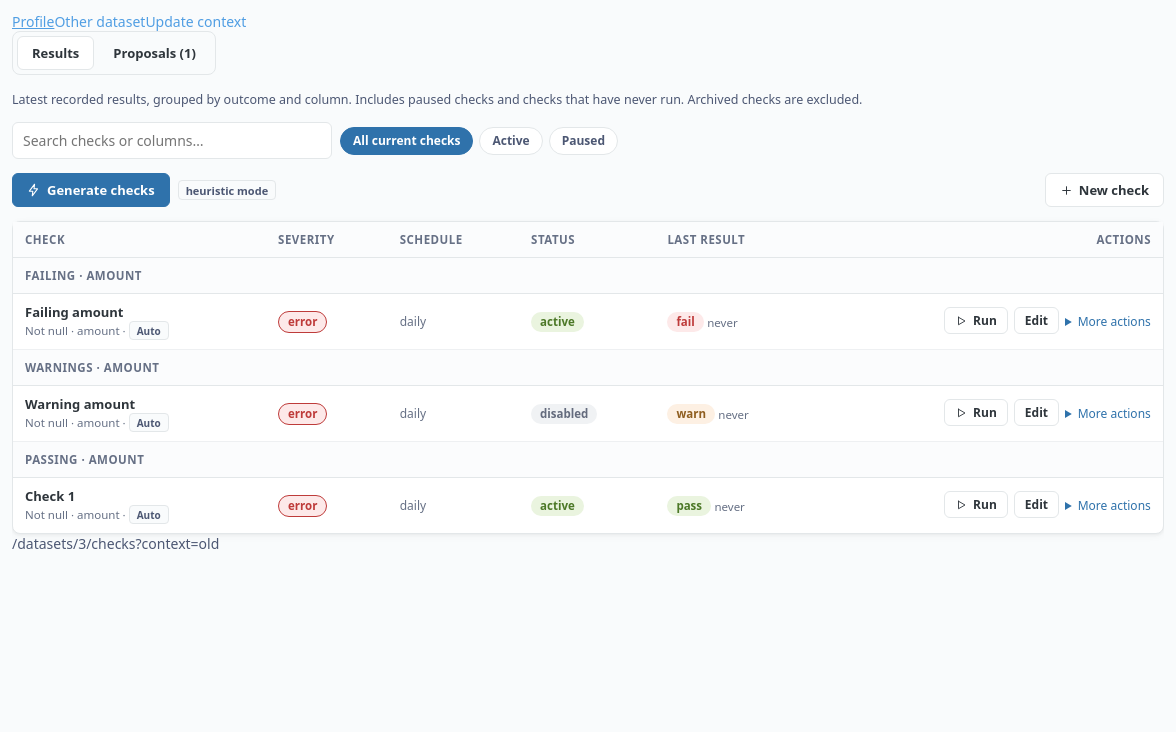
Test: Check results and proposals › preserves params updated while generation is pending on the same dataset
Click the button "Generate checks". click: (91, 190)
box: [12,173,170,207]
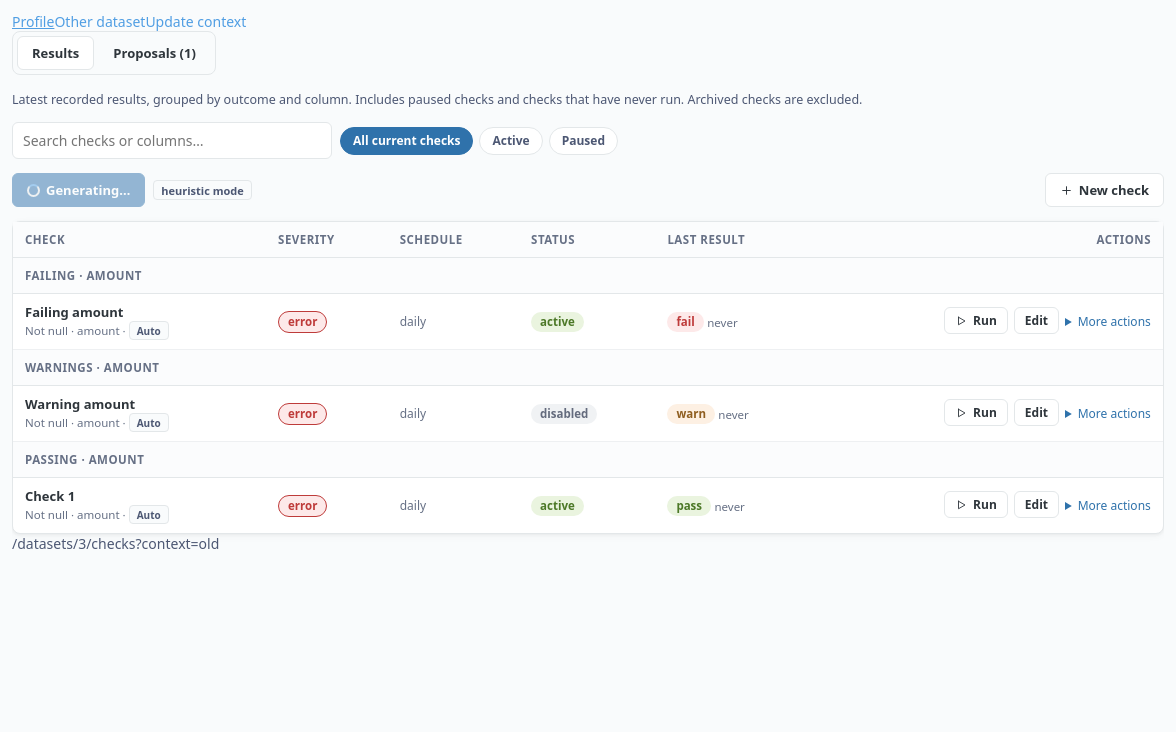
Click the link "Update context". click: (196, 22)
box: [145,12,246,31]
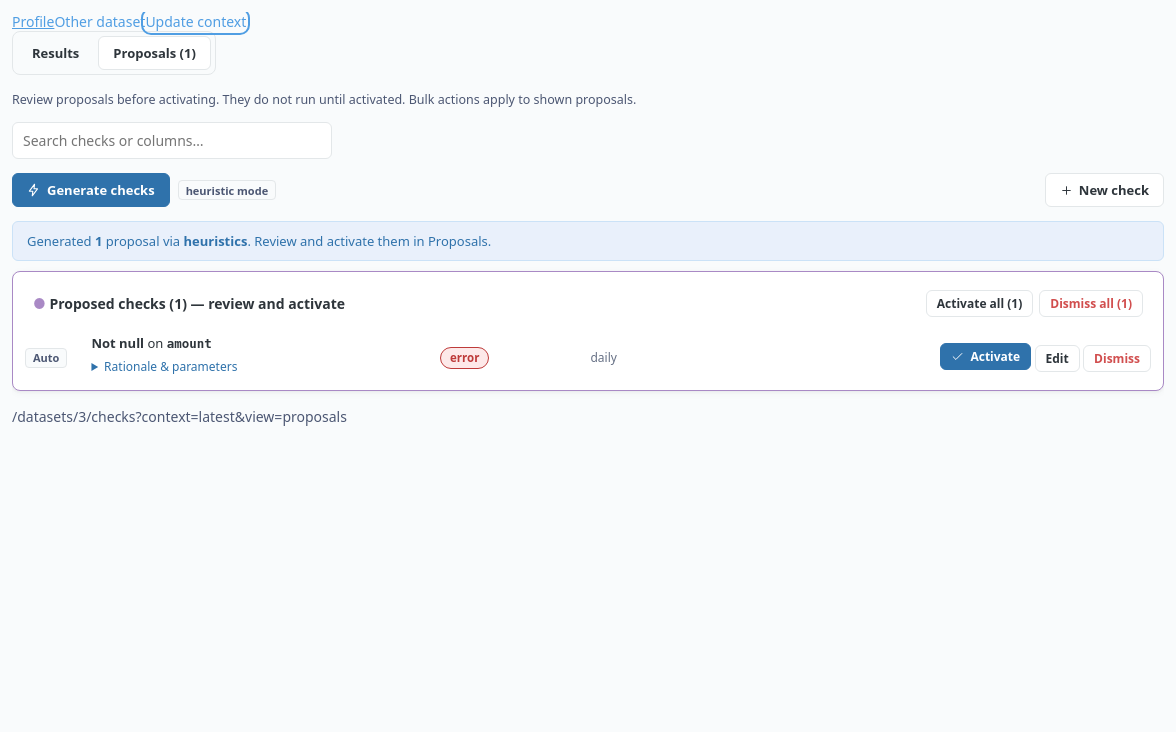
Result: the text with test id "location" shows "context=latest&view=proposals" at [136,407,347,426]
